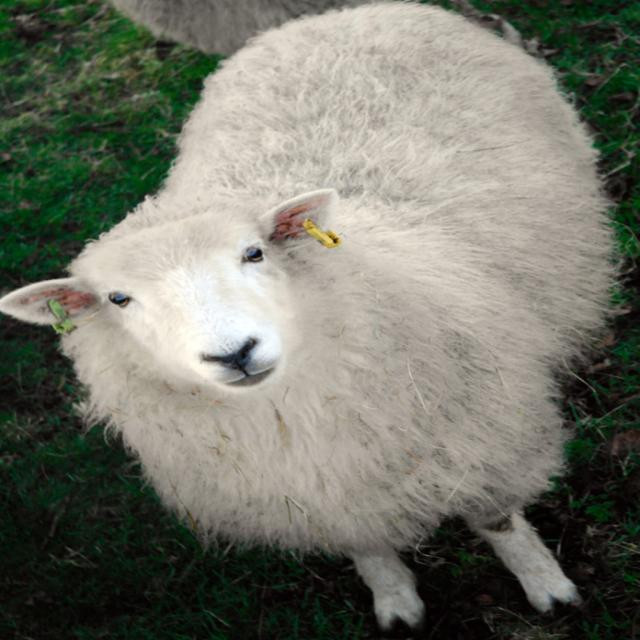Sheep: (0, 0, 637, 639)
